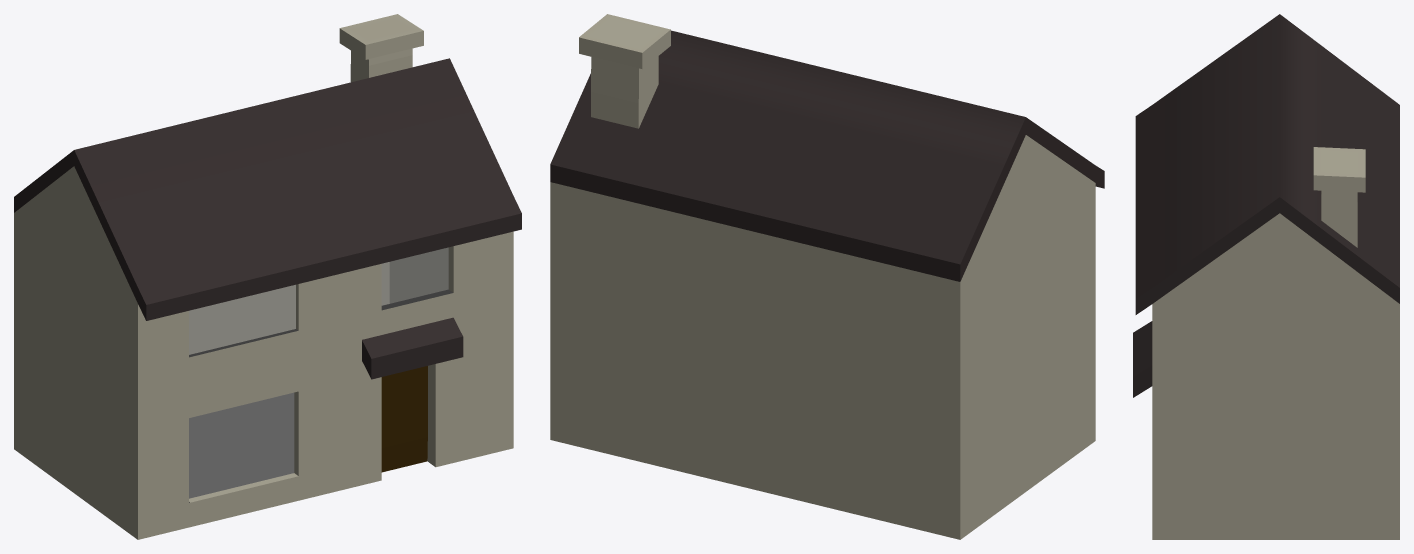
The model's file is casaroja.fbx.
3 views of the same model, side by side, from view 1: azimuth 30°, elevation 25°; view 2: azimuth 150°, elevation 25°; view 3: azimuth 270°, elevation 25° (orthographic). The views are drawn at different scales.
Visible parts, largest first — view 1: pCube1; view 2: pCube1; view 3: pCube1.
Part boxes in pixels (<box>): pCube1: <box>14,14,521,539</box>; pCube1: <box>550,14,1104,539</box>; pCube1: <box>1133,14,1399,539</box>.
Bounding box in the file's own units: 19.55 × 17.94 × 12.04.
